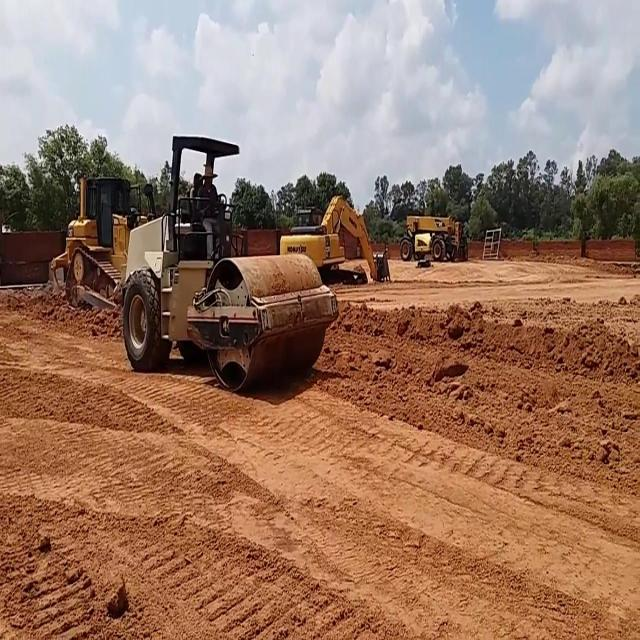Excavator: (281, 194, 389, 284)
Roller: (125, 132, 333, 396)
